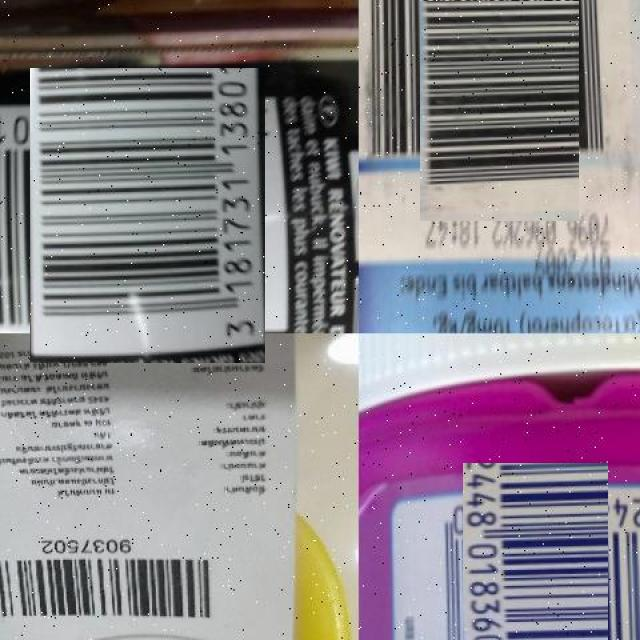Barcode: (15, 83, 280, 348), (390, 0, 610, 191), (447, 479, 624, 640), (0, 539, 228, 632)
